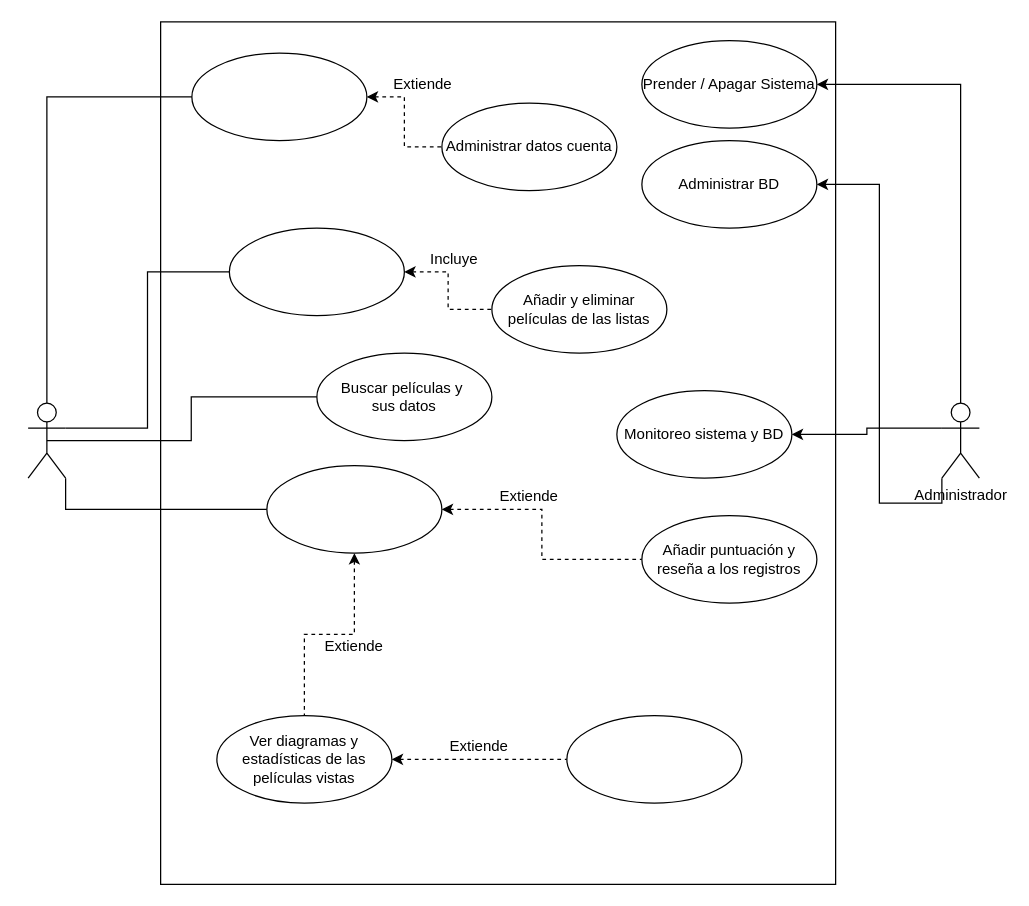
The diagram is 1029 pixels wide and 906 high, and some of its shapes have lost their labels. The shapes that lost their labels are listed below. From the top down, each one's centre as x and y in pixels, then its label:
pixel 279 96: Crear y usar cuenta
pixel 316 271: Crear listas
pixel 46 440: Usuario
pixel 354 508: Crear y eliminar registros de las películas vistas
pixel 654 758: Restringir las estadísticas por fechas
